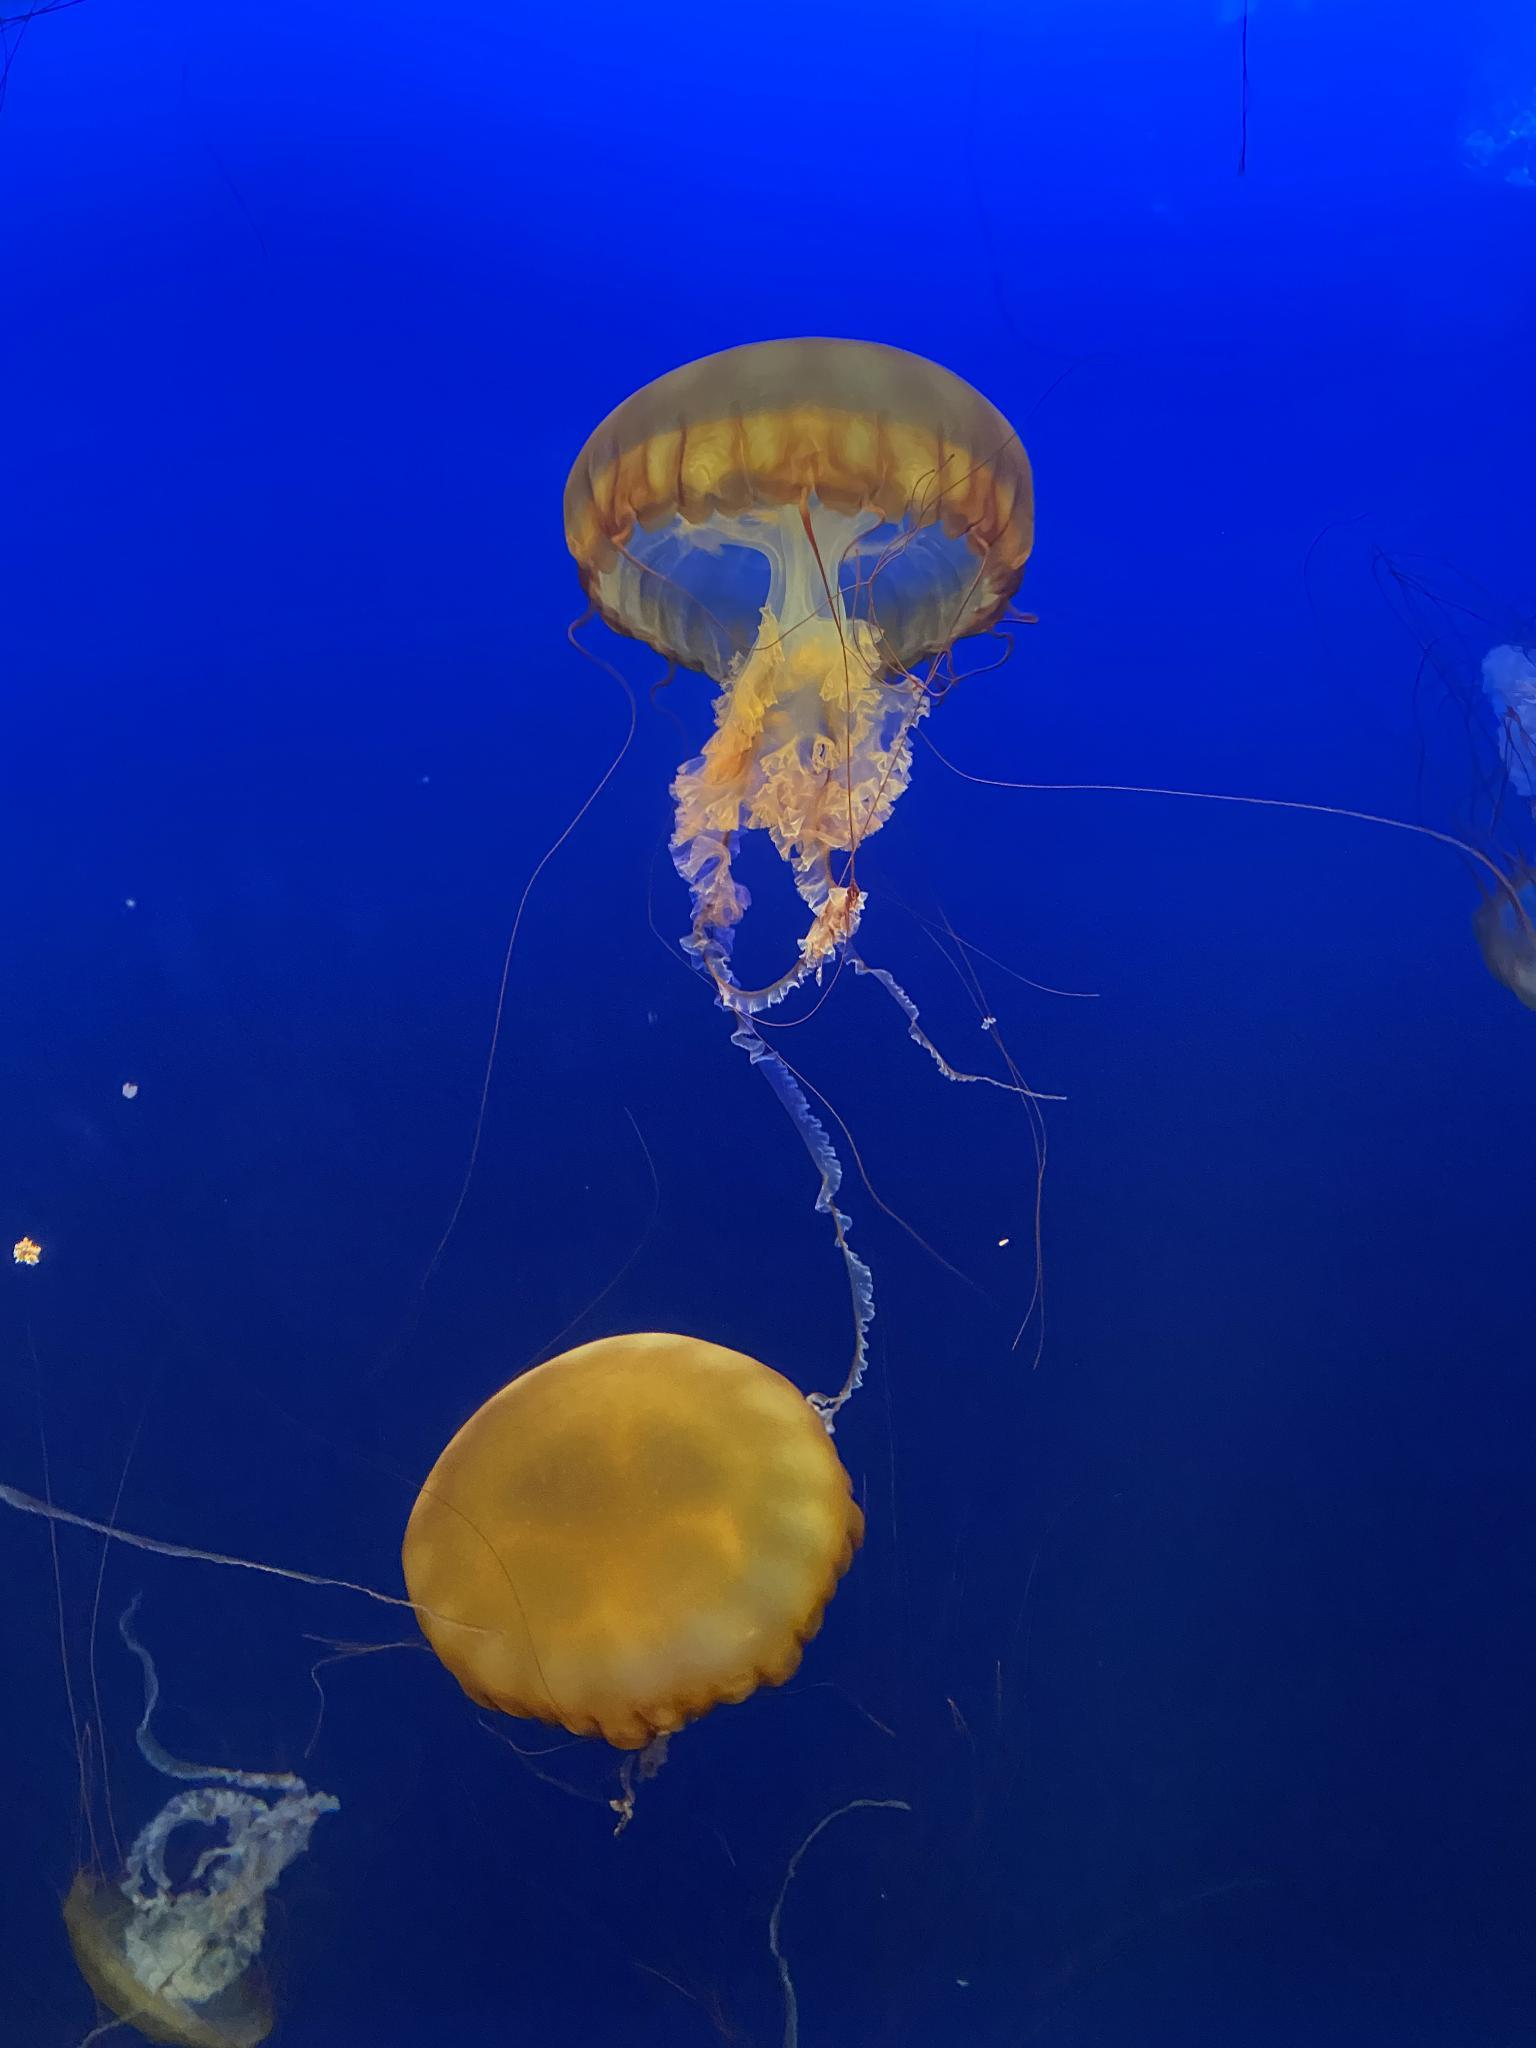jellyfish: (405, 1332, 862, 1748), (565, 335, 1033, 677), (66, 1869, 279, 2046), (1476, 860, 1536, 1022)
